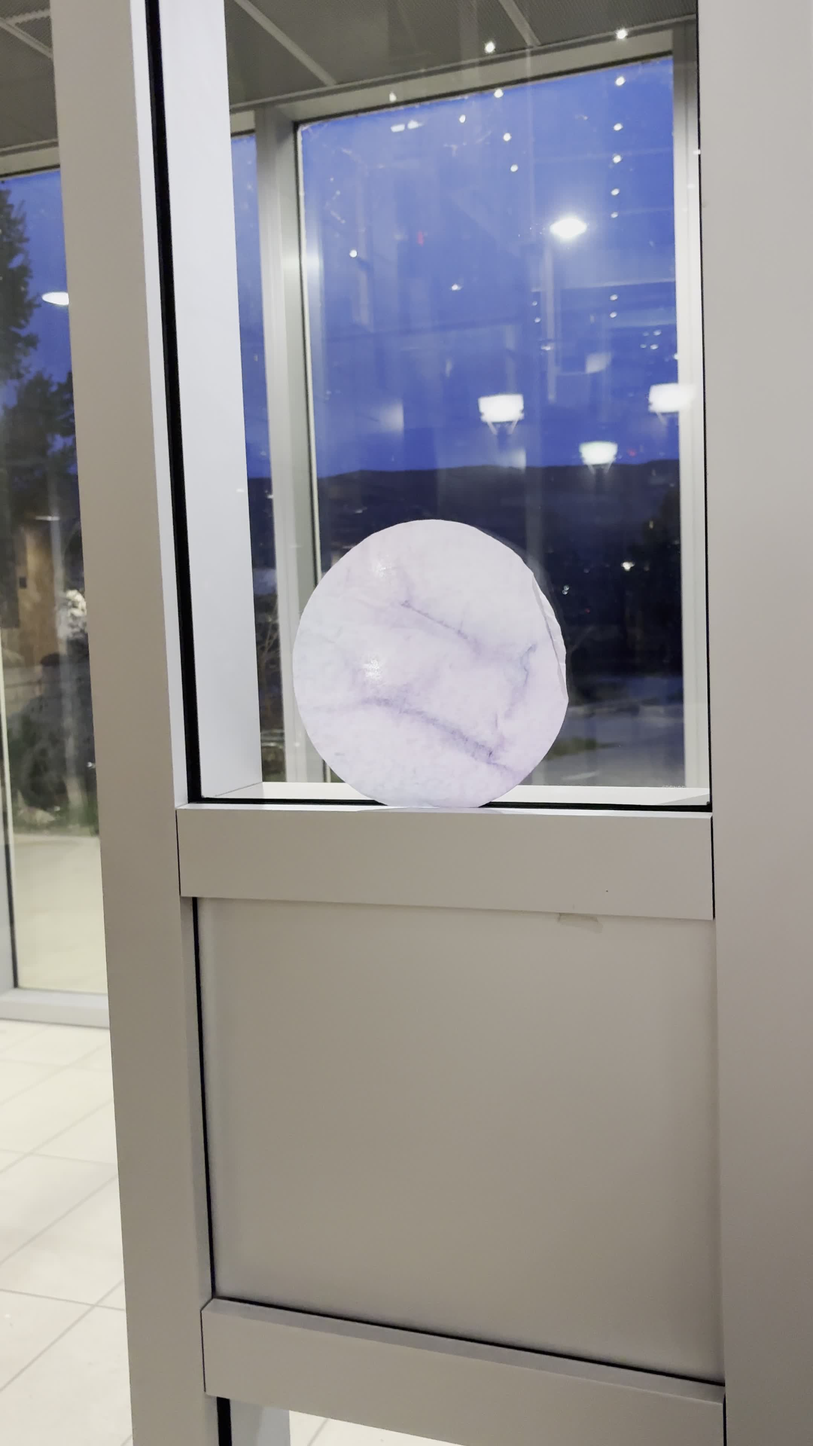Target: (292, 519, 570, 808)
